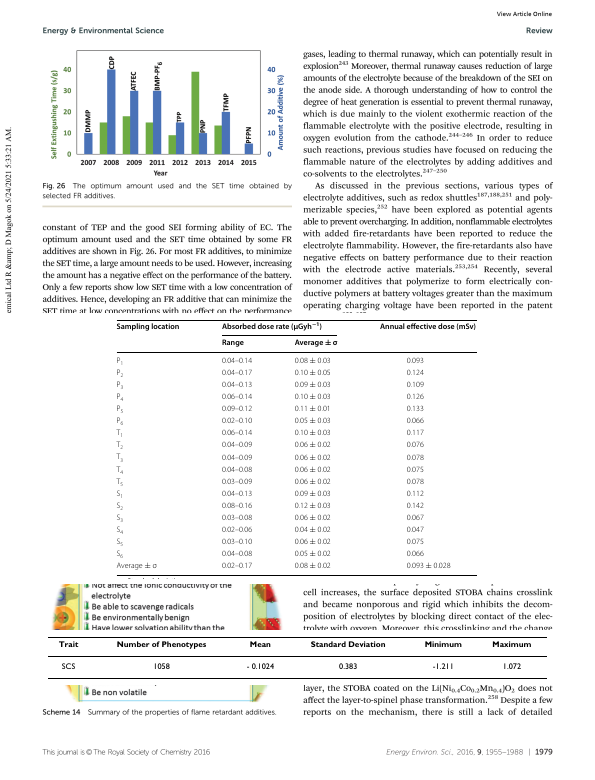borderless: (115, 318, 477, 575), (47, 635, 547, 678)
cell: (221, 321, 323, 332), (379, 322, 477, 332), (115, 640, 207, 649), (309, 640, 386, 649), (116, 322, 180, 332), (294, 338, 338, 348), (406, 562, 452, 571), (115, 562, 158, 571), (294, 356, 332, 366), (294, 368, 332, 378), (294, 477, 332, 487), (294, 489, 332, 499), (491, 640, 532, 649), (423, 640, 462, 649), (294, 381, 332, 390), (294, 393, 332, 402), (294, 405, 332, 414), (294, 417, 332, 426), (294, 429, 332, 438), (294, 441, 332, 450), (294, 453, 332, 462), (294, 465, 332, 474), (294, 502, 332, 511), (294, 514, 332, 523), (294, 526, 332, 535), (294, 538, 332, 547), (294, 550, 332, 559), (294, 562, 332, 571), (221, 356, 253, 366), (221, 368, 253, 378), (221, 477, 253, 487), (221, 489, 253, 499), (221, 381, 253, 390), (221, 393, 253, 402), (221, 405, 253, 414), (221, 417, 253, 426), (221, 429, 253, 438), (221, 441, 253, 450), (221, 453, 253, 462), (221, 465, 253, 474), (221, 502, 253, 511), (221, 514, 253, 523), (221, 526, 253, 535), (221, 538, 253, 547), (221, 550, 253, 559), (221, 562, 253, 571), (245, 662, 275, 670), (221, 338, 245, 348), (248, 640, 271, 649), (57, 640, 79, 649), (406, 356, 425, 366), (406, 368, 425, 378), (406, 477, 425, 487), (406, 489, 425, 499), (431, 662, 454, 670), (406, 381, 425, 390), (406, 393, 425, 402), (406, 405, 425, 414), (406, 417, 425, 426), (406, 429, 425, 438), (406, 441, 425, 450), (406, 453, 425, 462), (406, 465, 425, 474), (406, 502, 425, 511), (406, 514, 425, 523), (406, 526, 425, 535), (406, 538, 425, 547), (406, 550, 425, 559), (501, 662, 522, 670), (338, 662, 358, 670), (152, 662, 170, 670), (60, 662, 76, 670), (115, 429, 124, 440), (115, 441, 124, 452), (115, 453, 124, 464), (115, 465, 124, 476), (115, 477, 124, 488), (115, 489, 124, 500), (115, 538, 124, 549), (115, 550, 124, 561), (115, 502, 124, 512), (115, 514, 124, 524), (115, 526, 124, 536), (116, 356, 124, 367), (116, 368, 124, 379), (116, 417, 124, 428), (116, 381, 124, 391), (116, 393, 124, 403), (116, 405, 124, 415)
